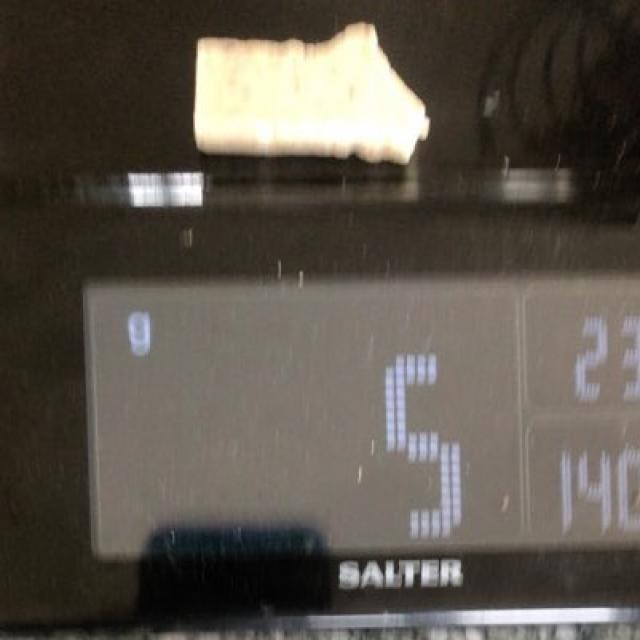white-chocolate: (196, 28, 427, 164)
